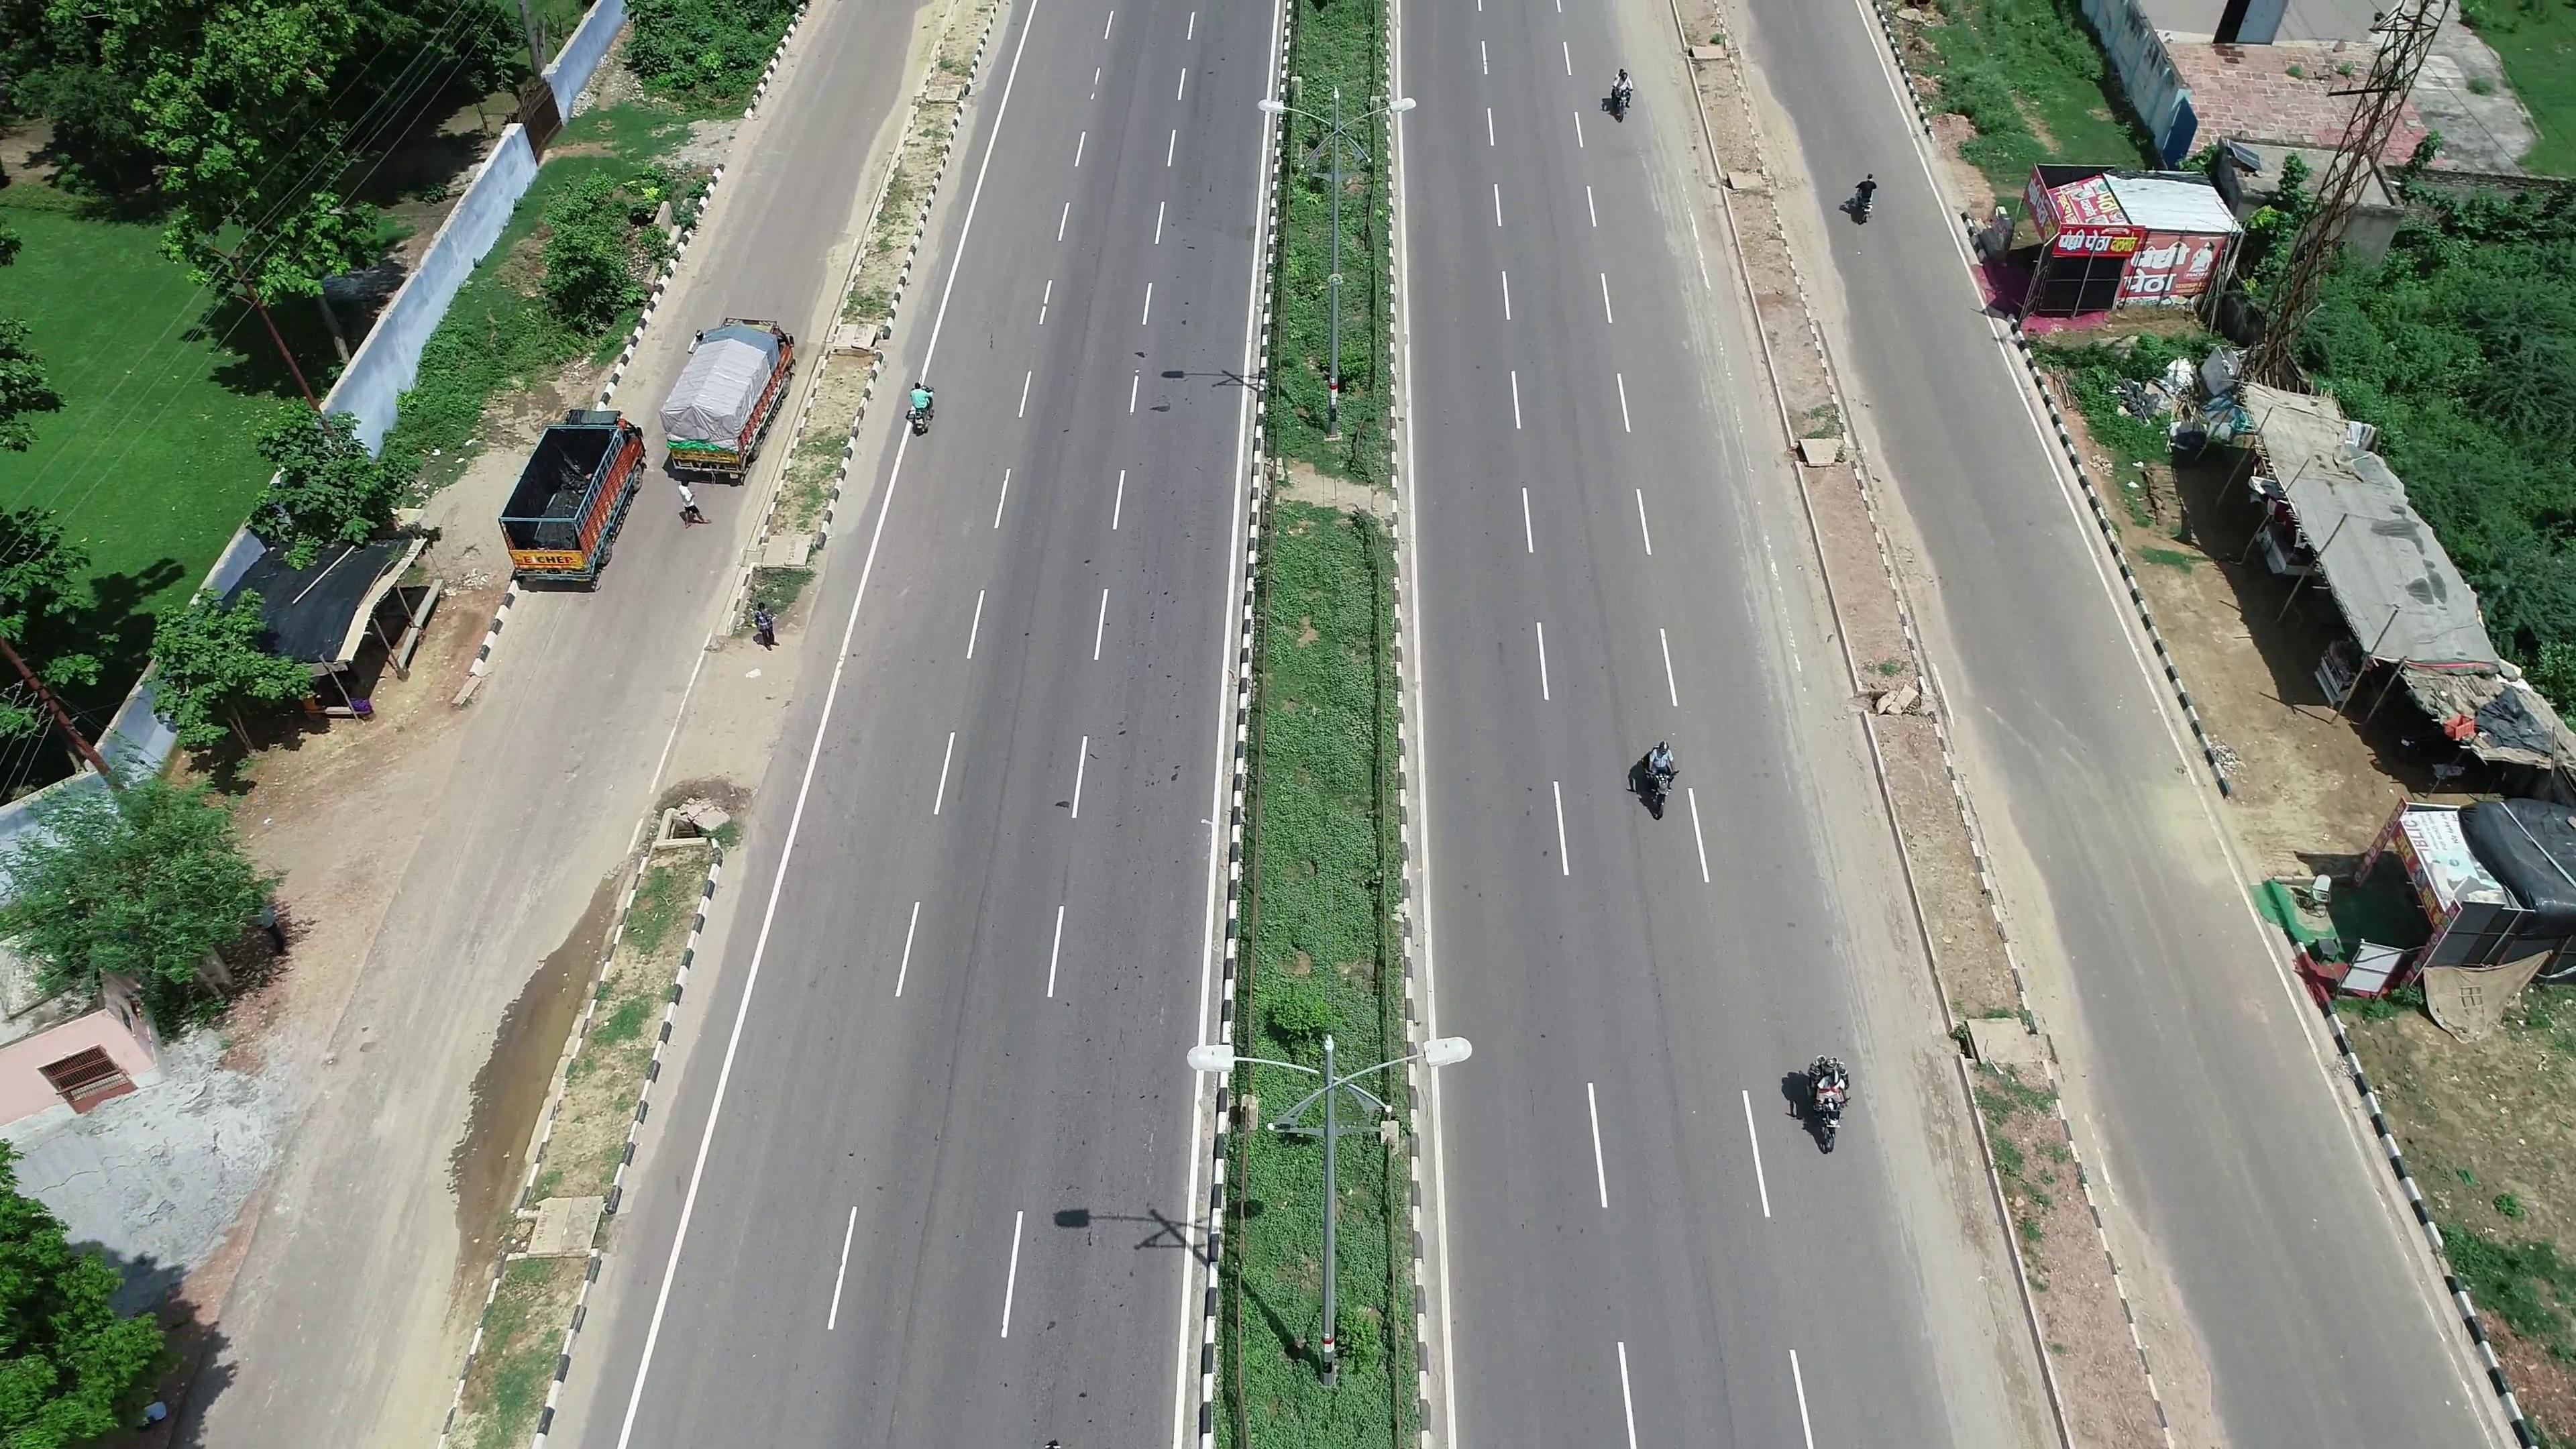Muddy_road: (449, 989, 570, 1161)
